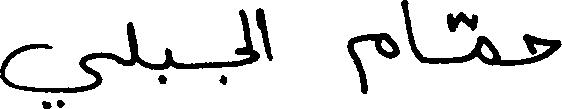X: (0, 39, 109, 108), (349, 28, 400, 98), (236, 4, 257, 71), (402, 0, 423, 67), (525, 29, 561, 68), (477, 11, 497, 70), (259, 3, 274, 65), (128, 17, 136, 70), (166, 43, 174, 85)
